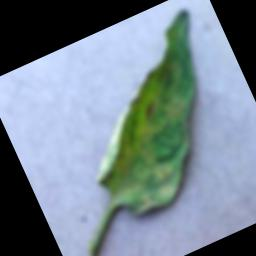Leaf_Mold: (45, 7, 256, 229)
